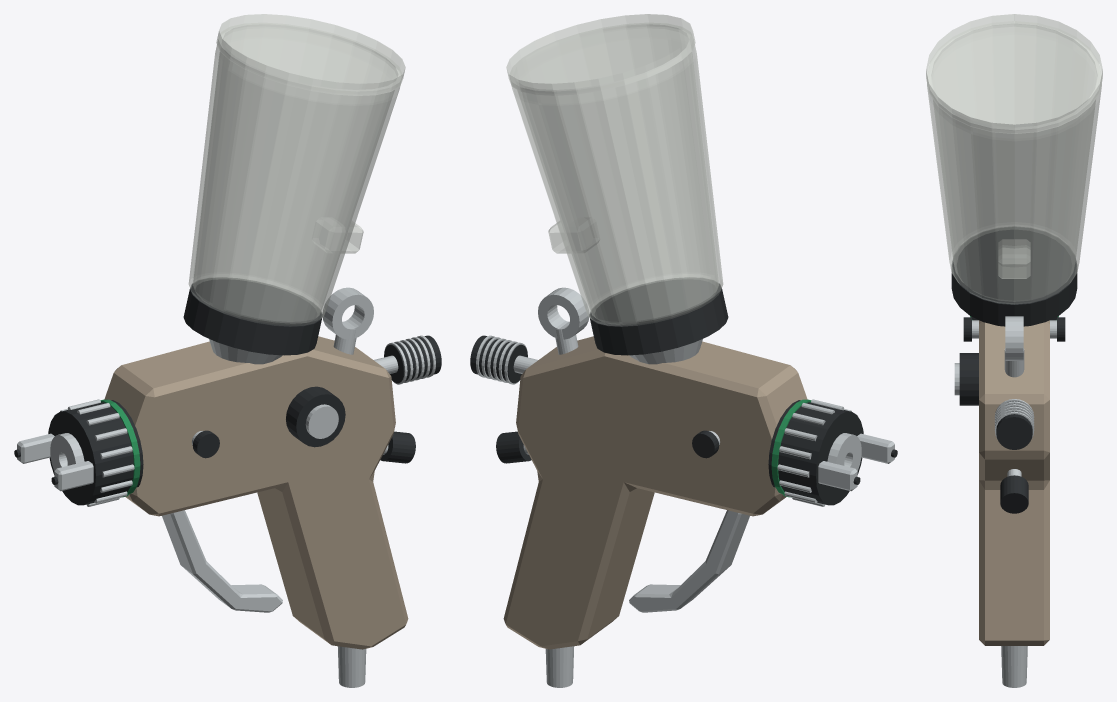
Rendered from full.glb.
The picture shows the model from 3 angles, left to right: view 1: azimuth 30°, elevation 25°; view 2: azimuth 150°, elevation 25°; view 3: azimuth 270°, elevation 25°; orthographic projection. The views are drawn at different scales.
Visible parts, largest first — view 1: Pistol body and swept grip, Translucent tapered gravity cup, Plain cup closed lid, Wide dark cup collar, Front hollow nozzle collar, Long curved trigger, Side circular dial, Small upper hanging eye, Rear axial ribbed knob, Lower open air fitting, Front metal aperture lip, Opposed nozzle horn -1 (+6 smaller); view 2: Pistol body and swept grip, Translucent tapered gravity cup, Plain cup closed lid, Wide dark cup collar, Front hollow nozzle collar, Long curved trigger, Small upper hanging eye, Rear axial ribbed knob, Lower open air fitting, Front metal aperture lip, Opposed nozzle horn 1, Cup lower funnel connector (+4 smaller); view 3: Translucent tapered gravity cup, Pistol body and swept grip, Plain cup closed lid, Wide dark cup collar, Small cup side tab, Rear axial ribbed knob, Lower open air fitting, Side circular dial, Lower rear knob, Small upper hanging eye, Generic hanging eye foot.
Part boxes in pixels (bbox=[...]): Pistol body and swept grip: bbox=[104, 336, 408, 649]; Translucent tapered gravity cup: bbox=[188, 23, 402, 326]; Plain cup closed lid: bbox=[216, 14, 405, 95]; Wide dark cup collar: bbox=[183, 278, 322, 355]; Front hollow nozzle collar: bbox=[48, 400, 143, 505]; Long curved trigger: bbox=[162, 510, 282, 612]; Side circular dial: bbox=[286, 386, 345, 447]; Small upper hanging eye: bbox=[322, 287, 373, 339]; Rear axial ribbed knob: bbox=[384, 335, 441, 383]; Lower open air fitting: bbox=[337, 646, 366, 687]; Front metal aperture lip: bbox=[50, 433, 84, 470]; Opposed nozzle horn -1: bbox=[54, 461, 93, 491]; Pistol body and swept grip: bbox=[503, 336, 807, 649]; Translucent tapered gravity cup: bbox=[509, 23, 723, 326]; Plain cup closed lid: bbox=[506, 14, 695, 95]; Wide dark cup collar: bbox=[589, 278, 728, 355]; Front hollow nozzle collar: bbox=[768, 400, 863, 505]; Long curved trigger: bbox=[629, 510, 749, 612]; Small upper hanging eye: bbox=[538, 287, 589, 339]; Rear axial ribbed knob: bbox=[470, 335, 527, 383]; Lower open air fitting: bbox=[545, 646, 574, 687]; Front metal aperture lip: bbox=[827, 433, 861, 470]; Opposed nozzle horn 1: bbox=[818, 461, 857, 491]; Cup lower funnel connector: bbox=[629, 339, 702, 364]; Translucent tapered gravity cup: bbox=[927, 21, 1101, 304]; Pistol body and swept grip: bbox=[979, 320, 1049, 645]; Plain cup closed lid: bbox=[926, 14, 1102, 133]; Wide dark cup collar: bbox=[951, 227, 1077, 326]; Small cup side tab: bbox=[998, 239, 1030, 278]; Rear axial ribbed knob: bbox=[996, 401, 1032, 449]; Lower open air fitting: bbox=[1001, 646, 1027, 687]; Side circular dial: bbox=[959, 353, 978, 405]; Lower rear knob: bbox=[1000, 475, 1028, 513]; Small upper hanging eye: bbox=[1005, 316, 1023, 360]; Generic hanging eye foot: bbox=[1004, 348, 1024, 377].
Bounding box in the file's own units: 0.209 × 0.3339 × 0.087.
